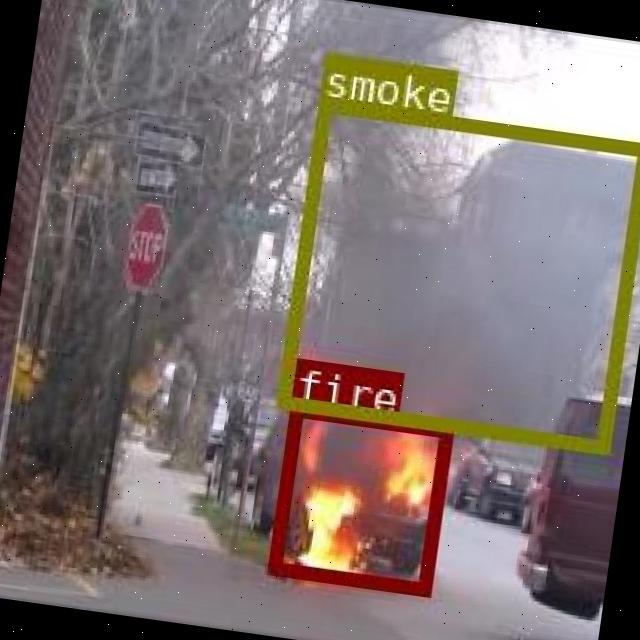fire: (268, 401, 452, 592)
smoke: (275, 97, 640, 452)
